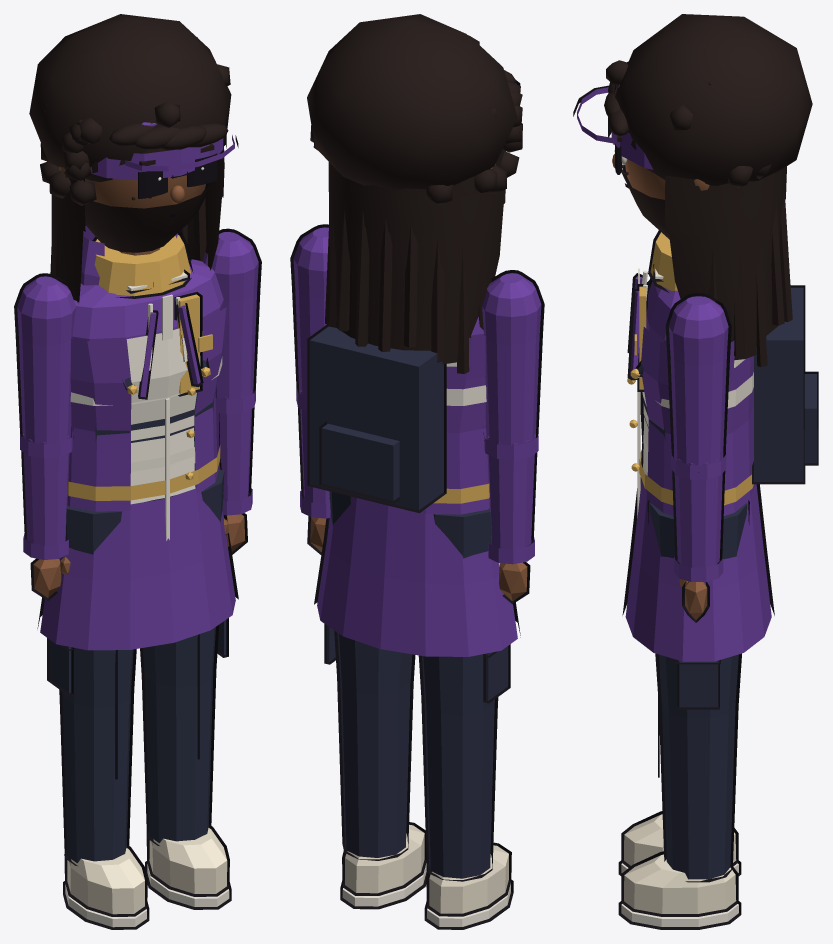
The model's file is kairos-citizen-v2.glb.
3 views of the same model, side by side, from view 1: azimuth 30°, elevation 25°; view 2: azimuth 150°, elevation 25°; view 3: azimuth 270°, elevation 25° (orthographic). The views are drawn at different scales.
Parts seen in each view (by area): view 1: tunic_hem, afro_crown, trouser_L, trouser_R, jacket_panel, sleeve_L, sleeve_R, shirt_front, tailored_torso, shoe_L, shoe_R, beard_chin (+32 smaller); view 2: afro_crown, tunic_hem, trouser_L, backpack, trouser_R, long_side, sleeve_L, jacket_panel, pack_pocket, bob_side, sleeve_R, long_sleeve_hoodie_L (+19 smaller); view 3: afro_crown, trouser_R, tunic_hem, long_side, sleeve_R, backpack, jacket_panel, shoe_R, long_sleeve_hoodie_R, bob_side, utility_pocket_R, shoe_L (+19 smaller).
Boxes of the visible parts, left/top/right/bottom form: tunic_hem: left=37, top=463, right=238, bottom=650; afro_crown: left=29, top=14, right=231, bottom=182; trouser_L: left=59, top=505, right=136, bottom=866; trouser_R: left=140, top=469, right=225, bottom=845; jacket_panel: left=67, top=300, right=229, bottom=511; sleeve_L: left=14, top=273, right=78, bottom=444; sleeve_R: left=202, top=228, right=261, bottom=399; shirt_front: left=126, top=328, right=200, bottom=504; tailored_torso: left=72, top=256, right=223, bottom=340; shoe_L: left=64, top=844, right=147, bottom=916; shoe_R: left=146, top=824, right=229, bottom=896; beard_chin: left=85, top=182, right=212, bottom=252; afro_crown: left=307, top=14, right=517, bottom=189; tunic_hem: left=314, top=497, right=520, bottom=656; trouser_L: left=418, top=508, right=498, bottom=881; backpack: left=307, top=323, right=446, bottom=513; trouser_R: left=328, top=491, right=415, bottom=860; long_side: left=328, top=162, right=503, bottom=364; sleeve_L: left=482, top=270, right=544, bottom=446; jacket_panel: left=329, top=335, right=489, bottom=514; pack_pocket: left=319, top=421, right=401, bottom=503; bob_side: left=329, top=149, right=505, bottom=234; sleeve_R: left=290, top=224, right=328, bottom=396; long_sleeve_hoodie_L: left=487, top=429, right=537, bottom=549; afro_crown: left=615, top=14, right=812, bottom=185; trouser_R: left=647, top=500, right=749, bottom=882; tunic_hem: left=622, top=479, right=774, bottom=661; long_side: left=669, top=181, right=781, bottom=360; sleeve_R: left=665, top=293, right=731, bottom=472; backpack: left=752, top=285, right=805, bottom=484; jacket_panel: left=641, top=280, right=760, bottom=515; shoe_R: left=621, top=851, right=738, bottom=916; long_sleeve_hoodie_R: left=672, top=449, right=725, bottom=567; bob_side: left=665, top=166, right=786, bottom=235; utility_pocket_R: left=677, top=660, right=719, bottom=709; shoe_L: left=621, top=811, right=738, bottom=867.
Bounding box in the file's own units: 0.524 × 1.81 × 0.4602.
